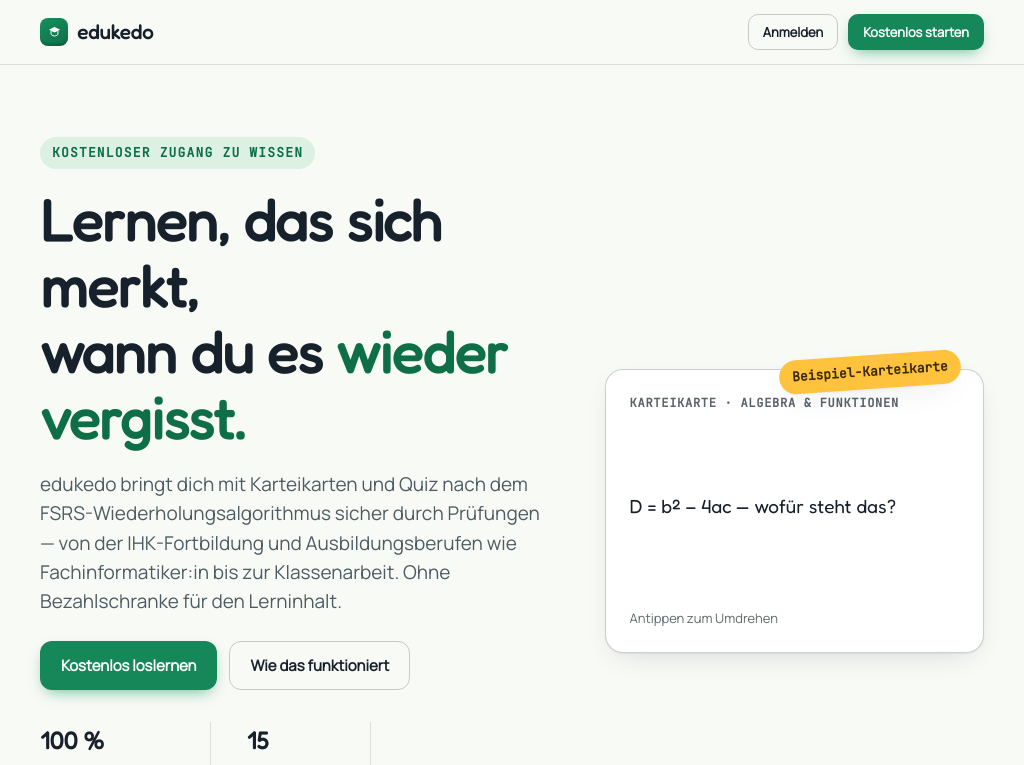
Scenario: Anmeldung und Registrierung für Gäste (F-08, F-159) › zeigt Gästen die Startseite und führt über „Anmelden“ zum Formular mit Passwort-vergessen-Weg
This screenshot has width=1024, height=765.
Click the button "Anmelden" at coordinates (793, 32), box [748,14,838,50]
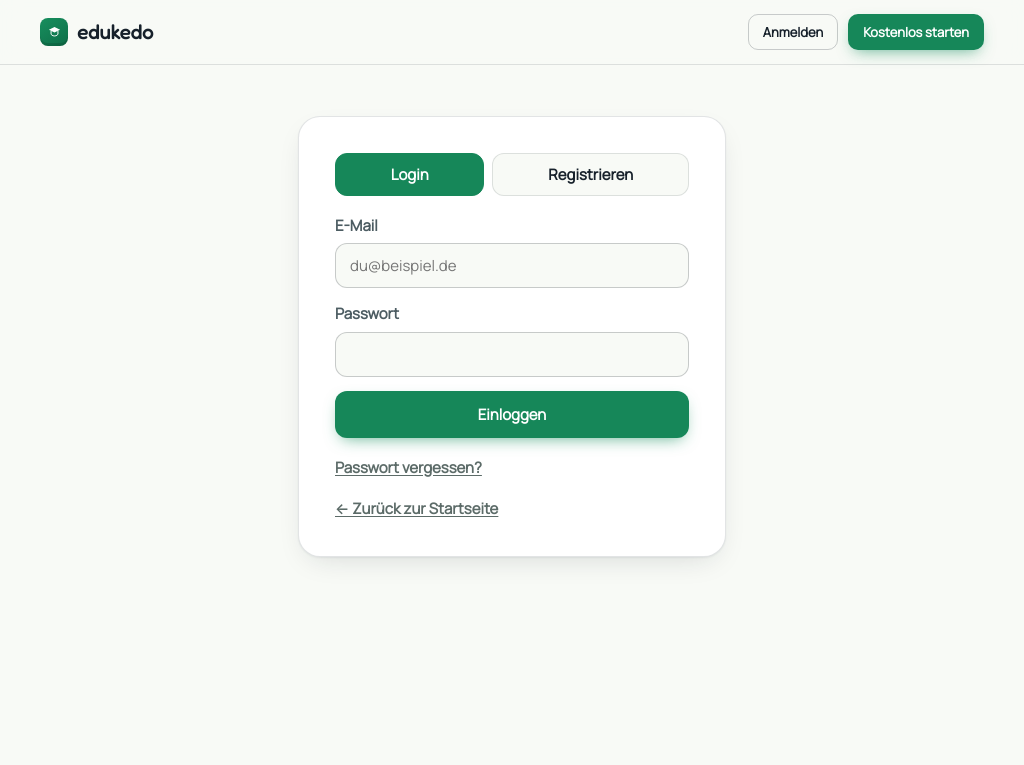
Check: the button "Einloggen" is shown, box [335,391,689,438]
Check: the text "Passwort vergessen" is shown, box [335,456,482,479]
